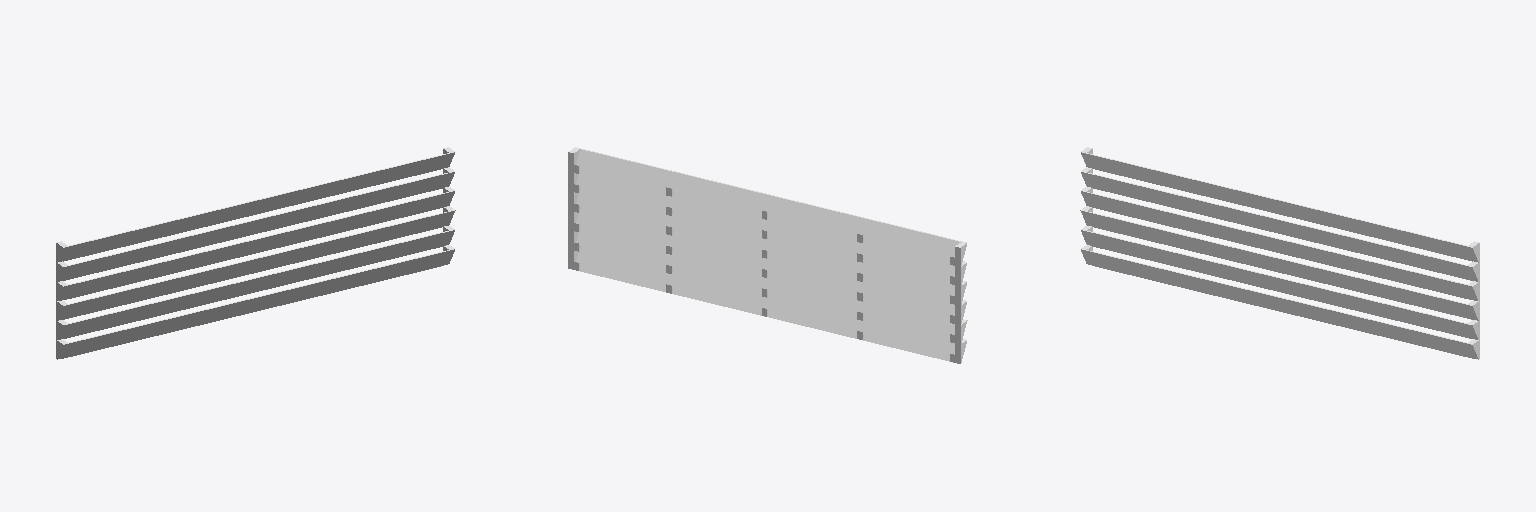
Rendered from new50ShadesOfAmerica2.obj.
3 renders of one model, left to right at view 1: azimuth 30°, elevation 25°; view 2: azimuth 150°, elevation 25°; view 3: azimuth 330°, elevation 25°, orthographic.
Size of the model in its own units: 130 by 37.1 by 4.01.